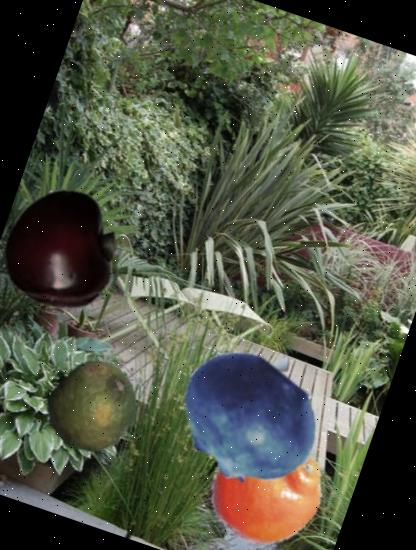Cherry: (0, 173, 138, 327)
Huckleberry: (156, 328, 340, 512)
Limes: (31, 344, 150, 463)
Tangelo: (193, 416, 340, 550)
